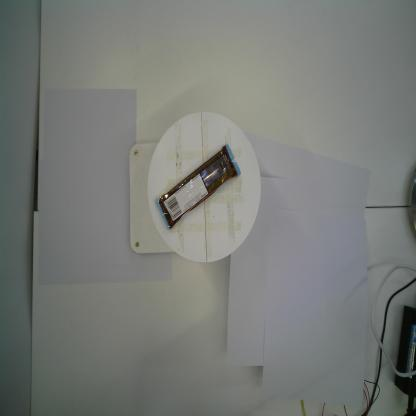Chocolate: (154, 140, 242, 230)
